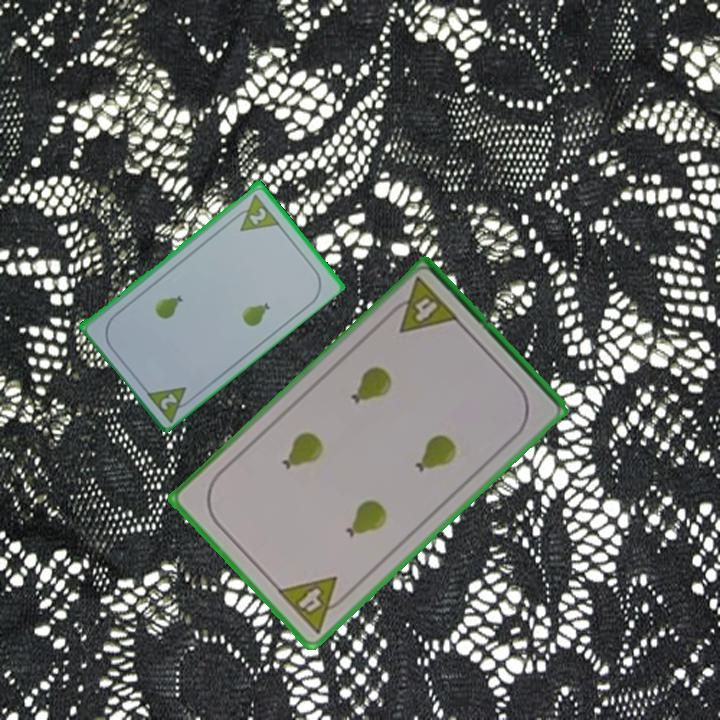2p: (245, 203, 270, 227), (157, 389, 180, 412)
4p: (273, 572, 354, 637), (383, 274, 462, 337)
